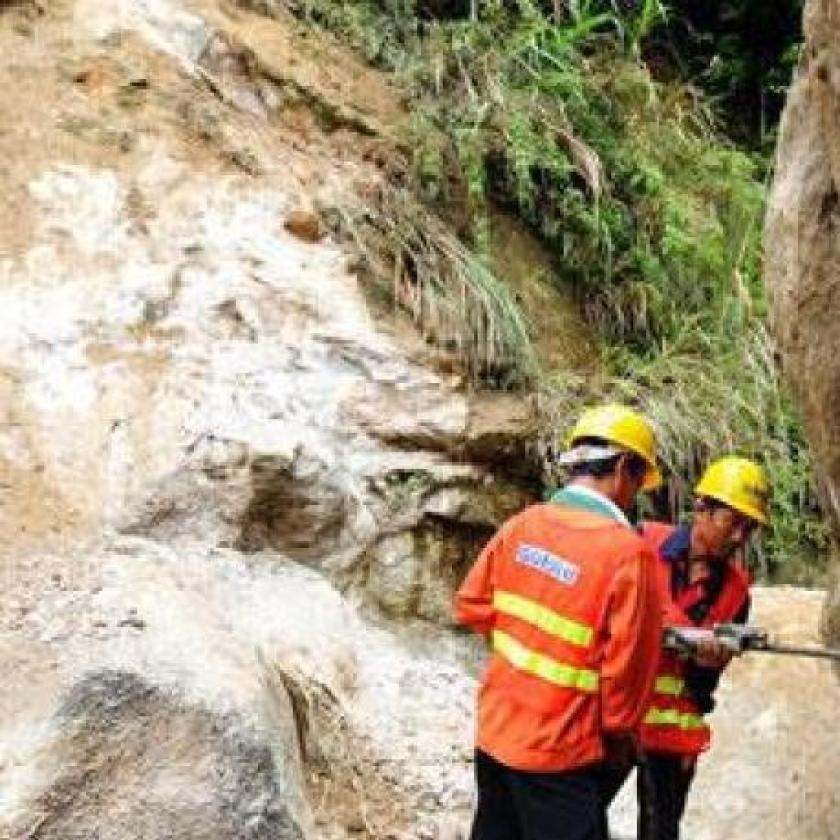Con_casco: (563, 401, 668, 529), (694, 454, 774, 563)
